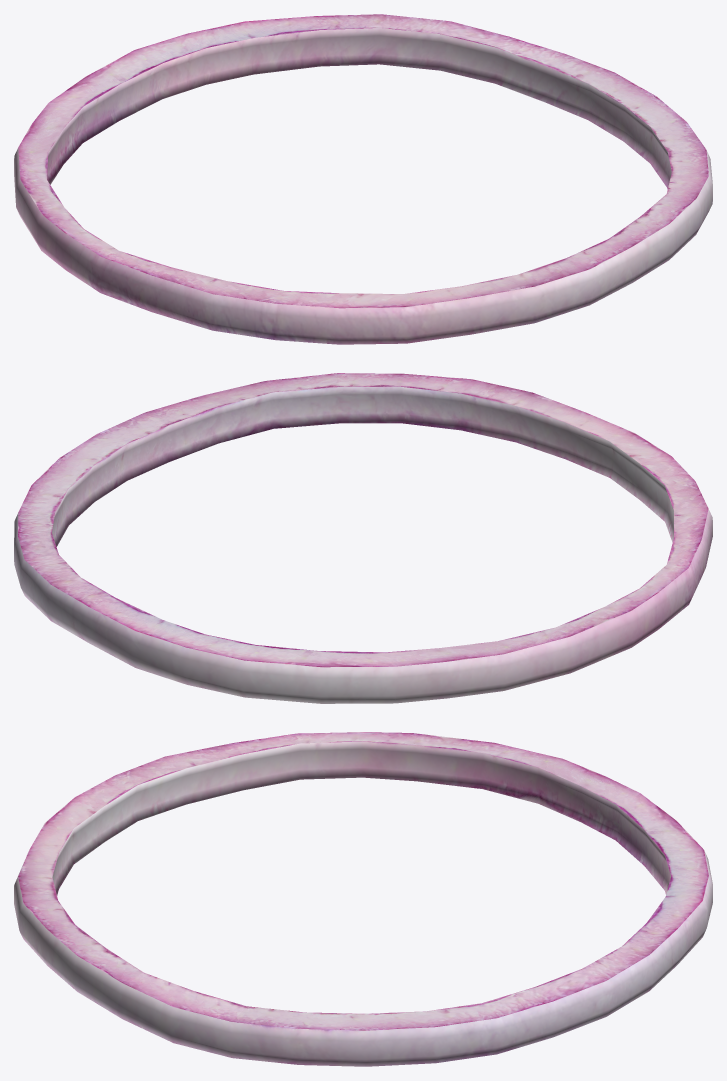
Rendered from Onions.fbx.
3 views of the same model, one above another, from view 1: azimuth 30°, elevation 25°; view 2: azimuth 150°, elevation 25°; view 3: azimuth 270°, elevation 25° (orthographic).
Visible parts, largest first — view 1: onions; view 2: onions; view 3: onions.
Boxes of the visible parts, x1,y1,x2,y2 form: onions: (14,14,712,344); onions: (14,373,712,703); onions: (14,732,712,1066).
Size of the model in its own units: 2.04 by 0.1562 by 2.06.
